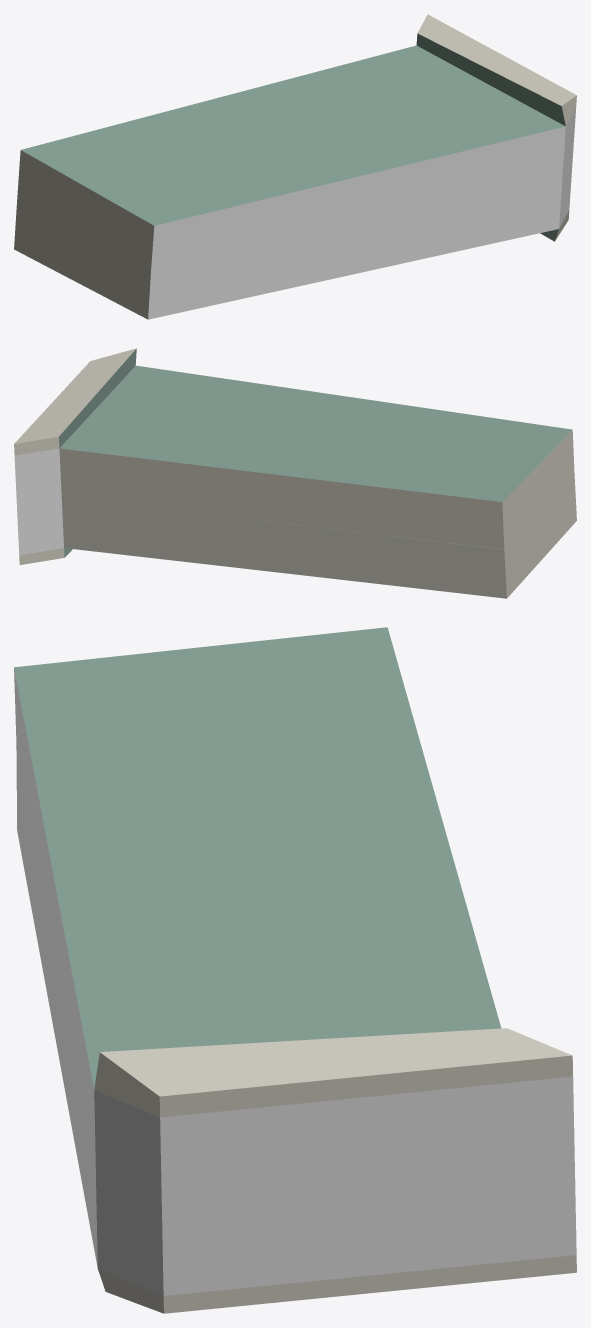
File: mag2.fbx
3 views of the same model, one above another, from view 1: azimuth 30°, elevation 25°; view 2: azimuth 150°, elevation 25°; view 3: azimuth 270°, elevation 25° (orthographic). The views are drawn at different scales.
Visible parts, largest first — view 1: Cube.002; view 2: Cube.002; view 3: Cube.002.
Boxes of the visible parts, <box> form: Cube.002: <box>14,14,576,319</box>; Cube.002: <box>14,348,576,598</box>; Cube.002: <box>14,627,576,1313</box>.
Size of the model in its own units: 99.33 by 27.75 by 53.8.
